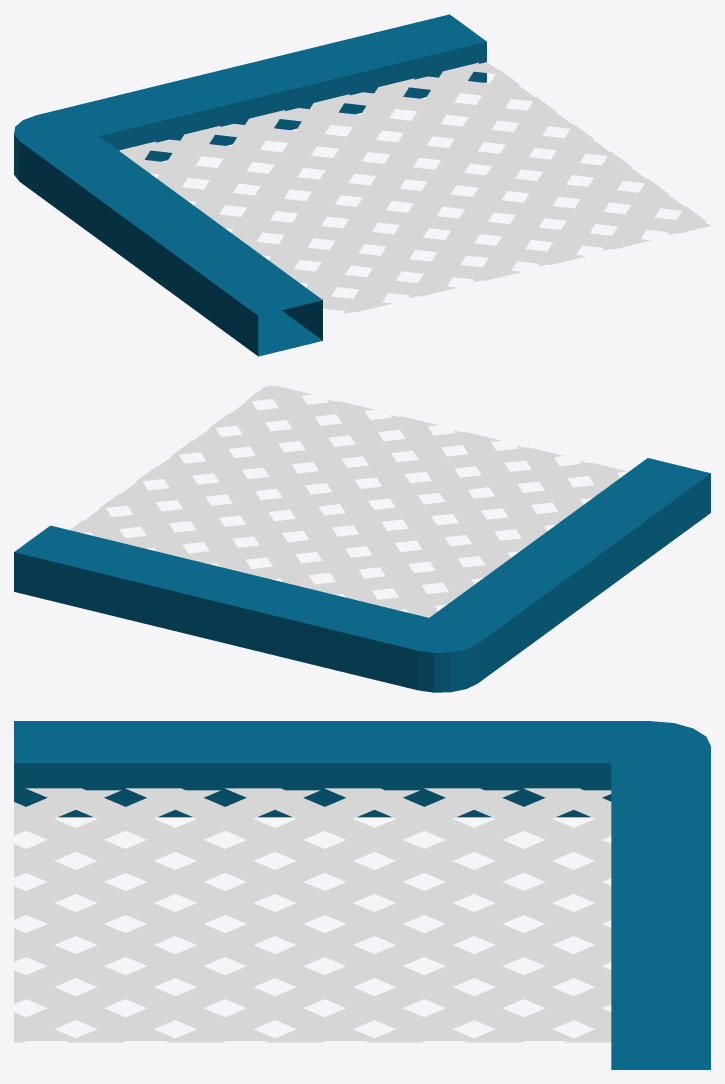
The model's file is G02_017_Floor_Mesh_WD.fbx.
3 renders of one model, top to bottom at view 1: azimuth 30°, elevation 25°; view 2: azimuth 150°, elevation 25°; view 3: azimuth 270°, elevation 25°, orthographic. The views are drawn at different scales.
Visible parts, largest first — view 1: 平面.054, 006_Mesh_WD_B; view 2: 平面.054, 006_Mesh_WD_B; view 3: 平面.054, 006_Mesh_WD_B.
Part boxes in pixels (x1,y1,x2,y2): 平面.054: [119, 62, 710, 313]; 006_Mesh_WD_B: [14, 14, 486, 356]; 平面.054: [69, 385, 627, 617]; 006_Mesh_WD_B: [14, 458, 710, 692]; 平面.054: [14, 788, 611, 1042]; 006_Mesh_WD_B: [14, 721, 710, 1069].
Bounding box in the file's own units: 350 × 30 × 350.
